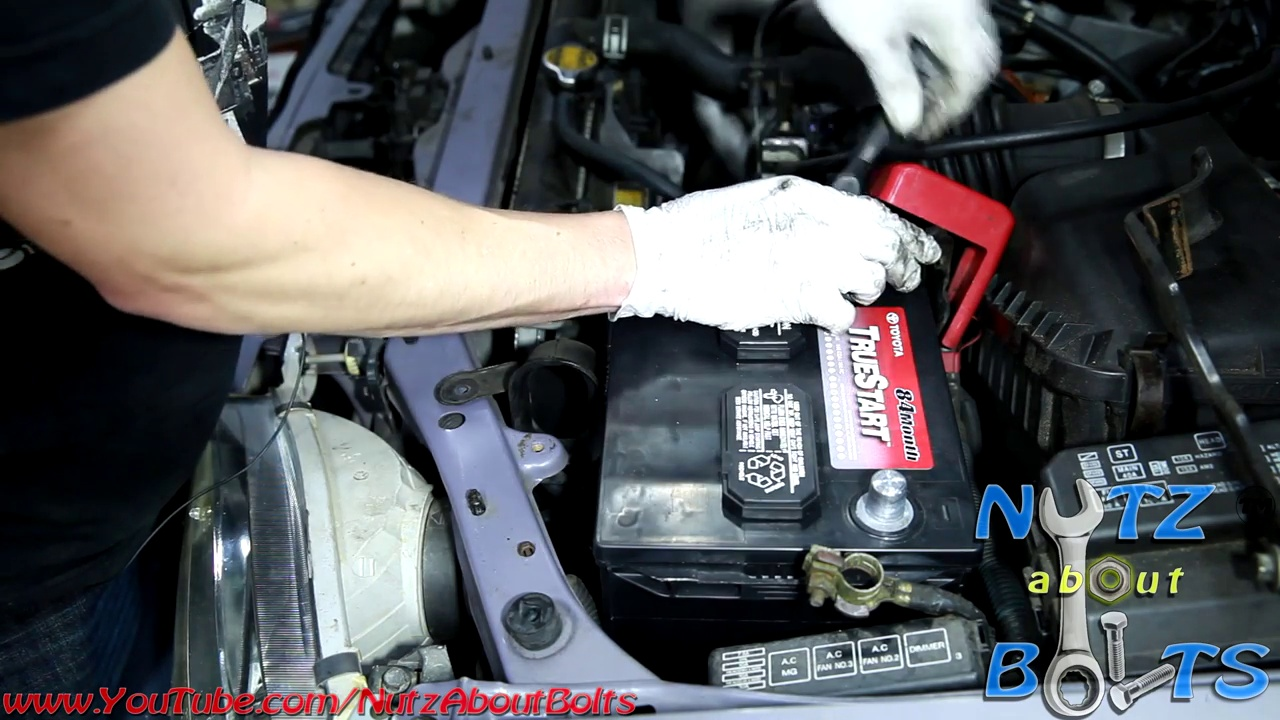battery: (598, 162, 986, 607)
neg_disconnected: (787, 459, 938, 619)
pos_touched: (798, 160, 996, 353)
